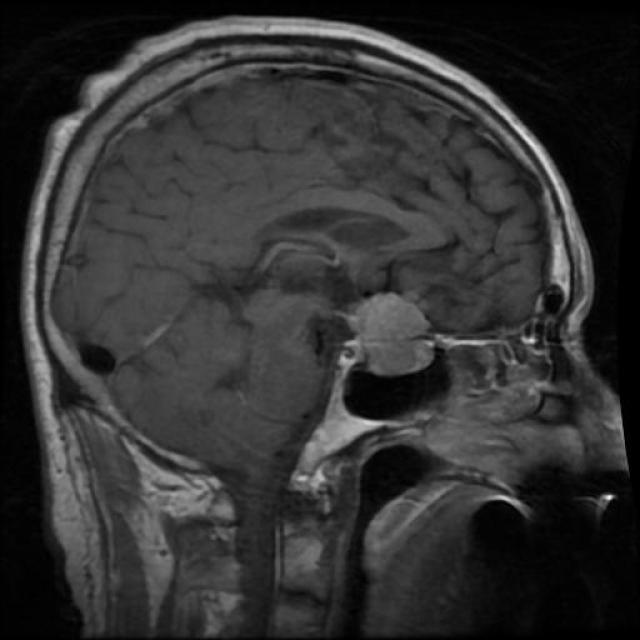pituitary: (330, 276, 442, 382)
